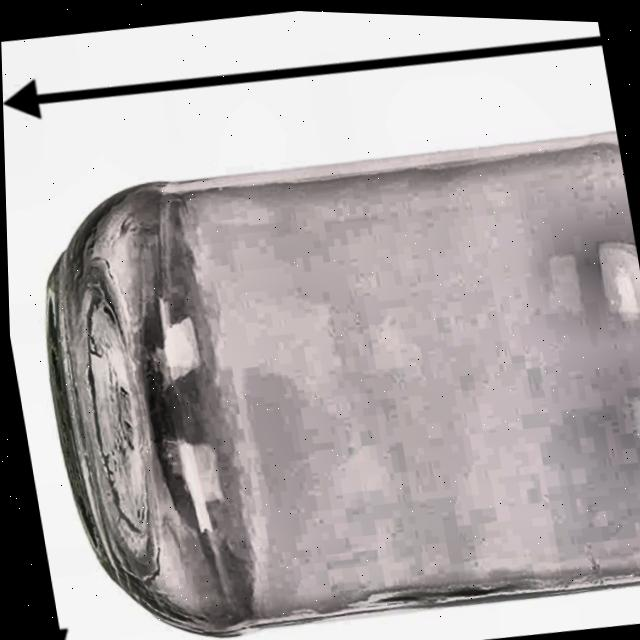glass: (41, 124, 640, 639)
